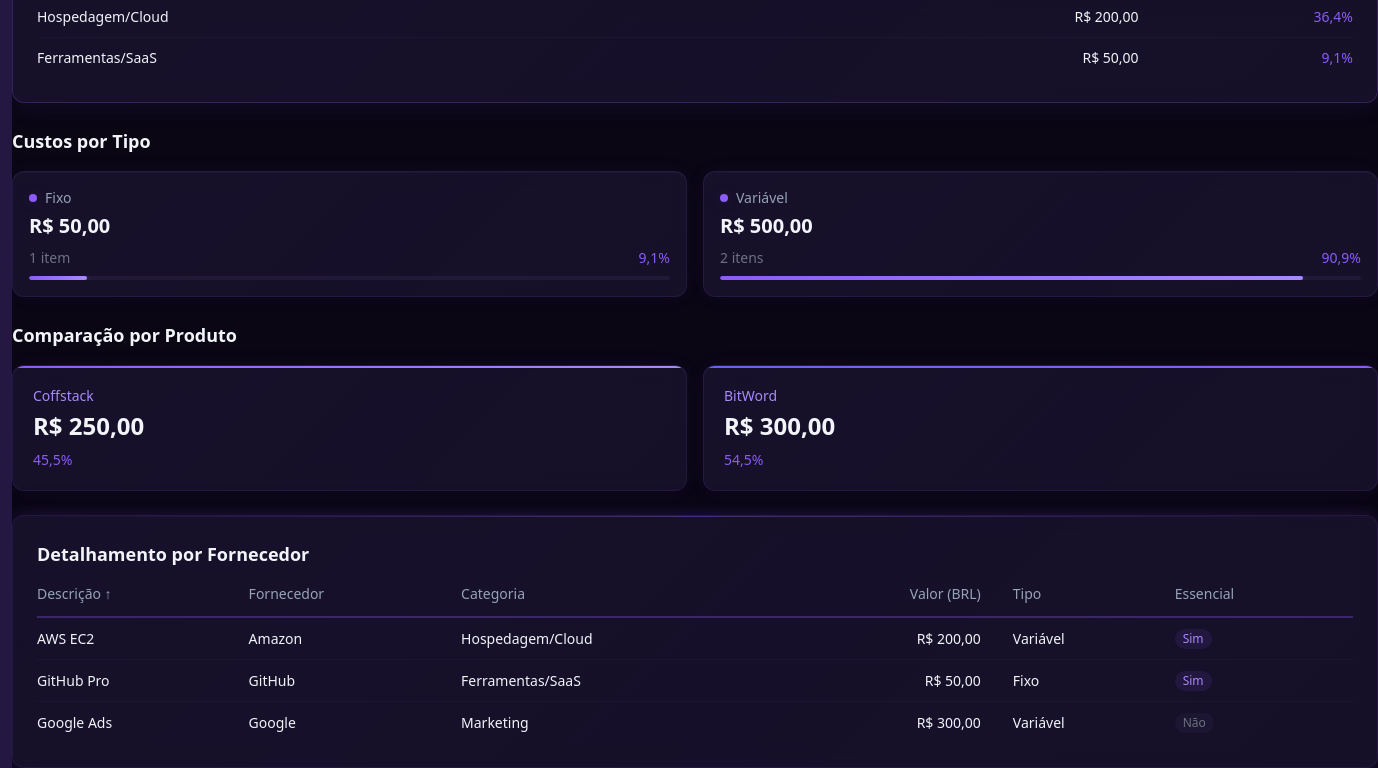
Dashboard Integration › Sort toggle behavior › clicking a column header sorts by that column, clicking again reverses
(page scrolled)
Expected: the cell "AWS EC2" is shown, [37,617,249,660]
Expected: the cell "Google Ads" is shown, [37,702,249,743]
# Click "Descrição" header again to reverse sort (it's already the active column)
Click the column heading "Descrição" at (69, 594), box [37,584,249,617]
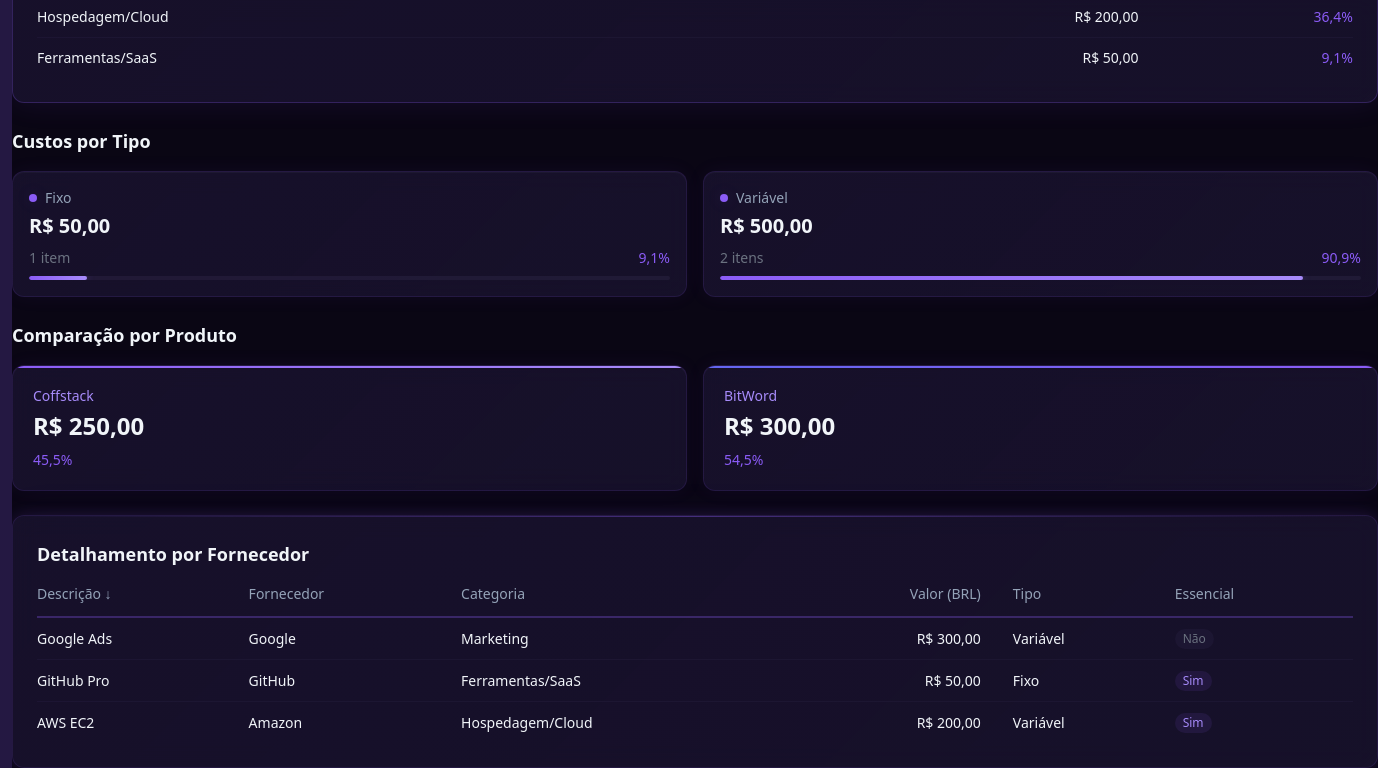
Result: the cell "Google Ads" is shown at [37,617,249,660]
Result: the cell "AWS EC2" is shown at [37,702,249,743]
# Click "Valor (BRL)" to sort by valor ascending
Click the column heading "Valor (BRL)" at (945, 594), box [793,584,1013,617]
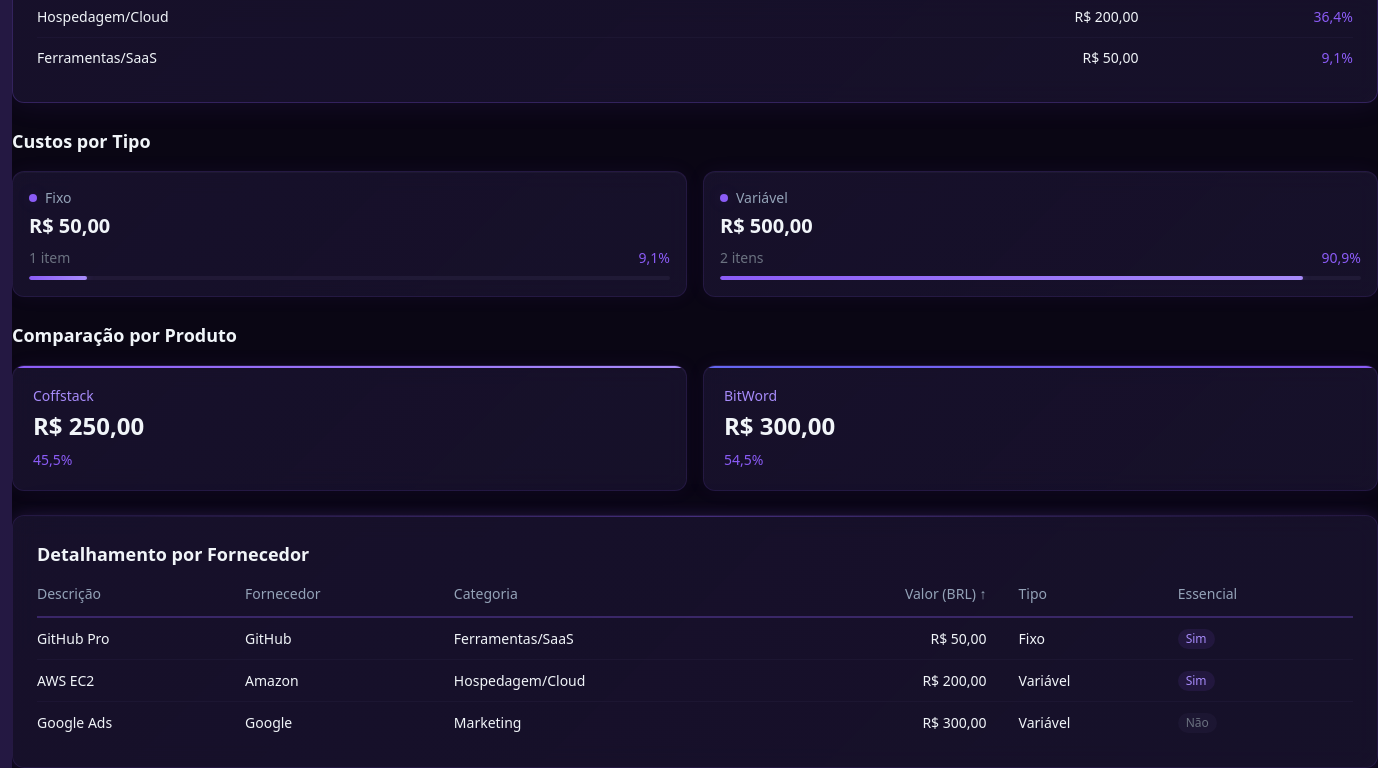
Result: the cell "GitHub Pro" is shown at [37,617,245,660]
Result: the cell "Google Ads" is shown at [37,702,245,743]
